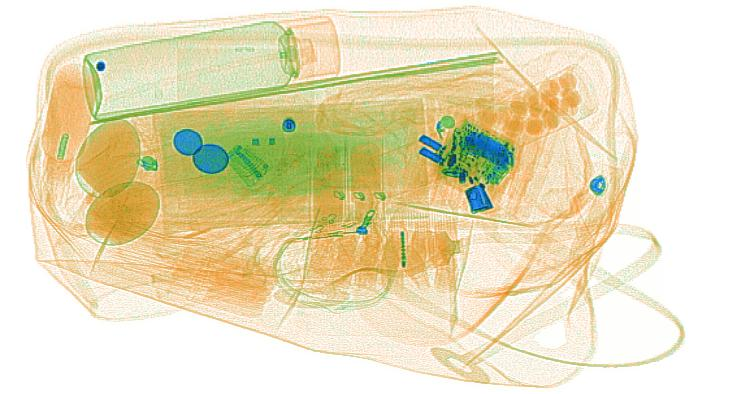plasticBottleWithaNozzle: (38, 61, 102, 207)
pressure: (80, 13, 341, 122)
